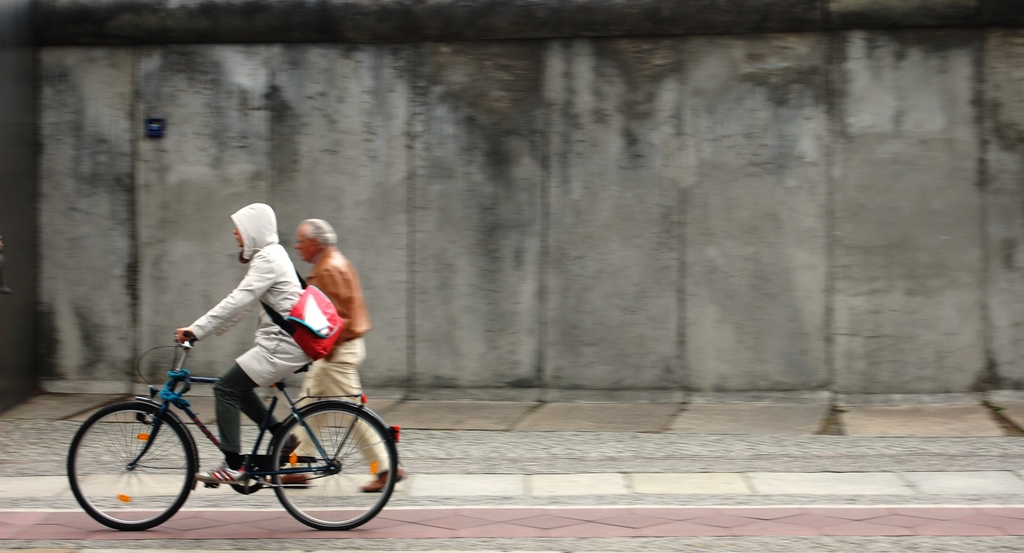Bike: (61, 323, 399, 534)
